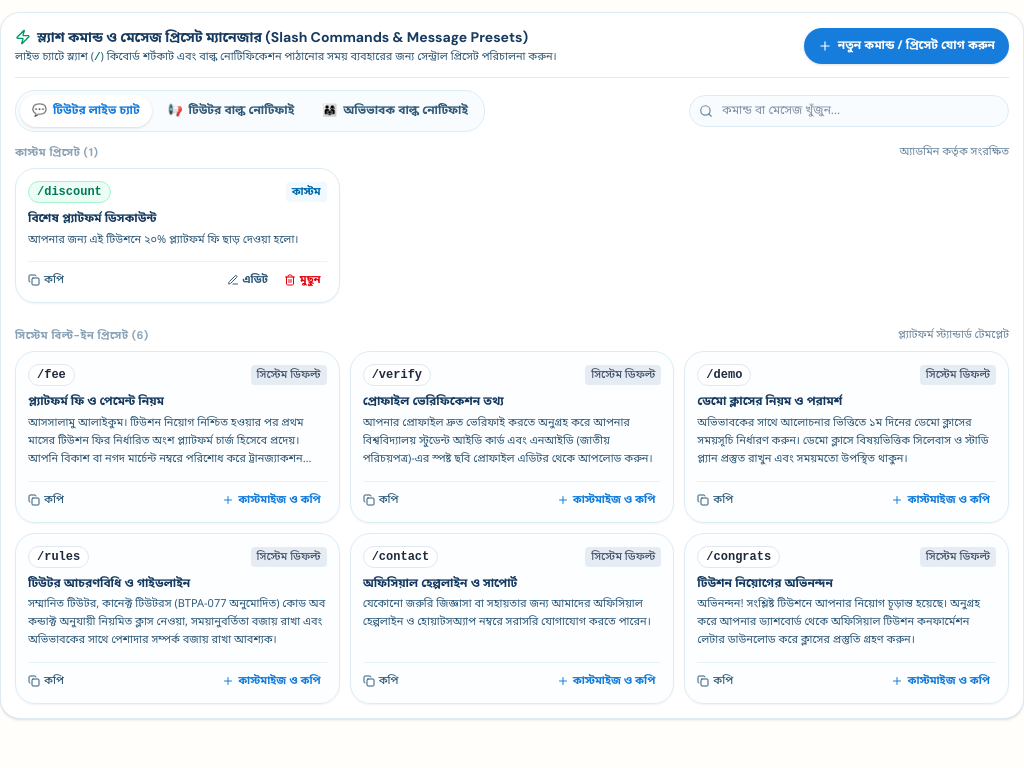
it: AdminSlashPresetsManager › switches category tab and displays category-specific presets
The image size is (1024, 768).
Click the tab "📢 টিউটর বাল্ক নোটিফাই" at (231, 111), box [156, 95, 306, 127]
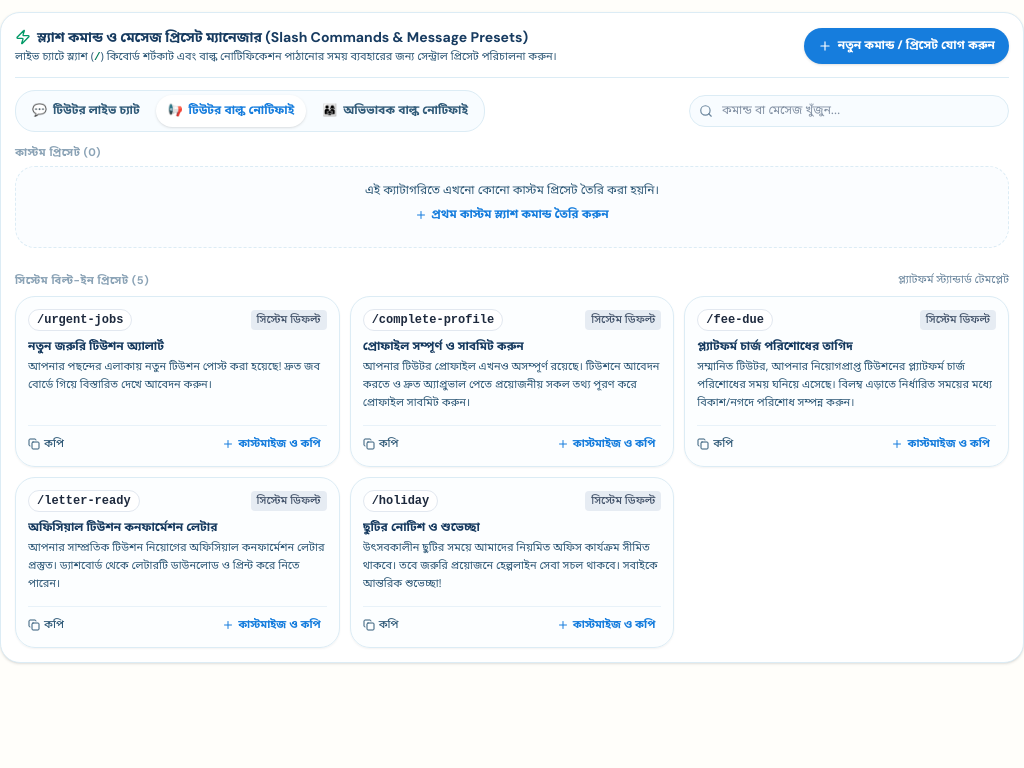
Check: the text "/urgent-jobs" is shown, box [28, 309, 132, 331]
Check: the heading "নতুন জরুরি টিউশন অ্যালার্ট" is shown, box [28, 339, 164, 355]
